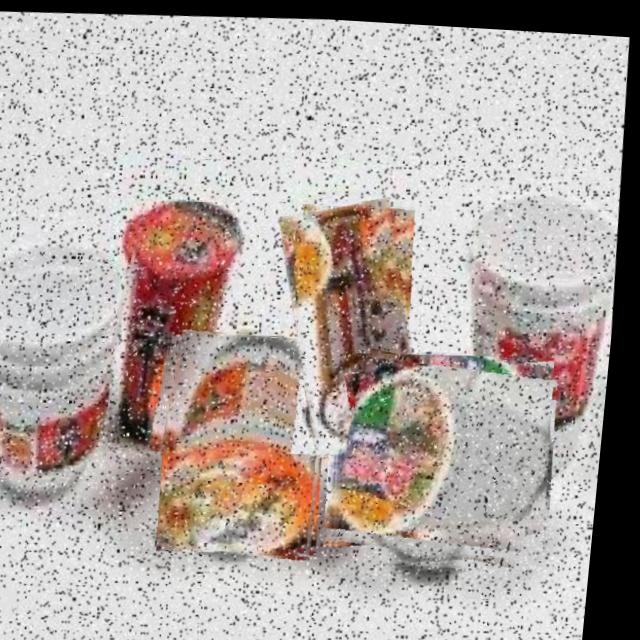Miscellaneous: (329, 340, 568, 572), (158, 323, 346, 560), (275, 190, 440, 456), (107, 194, 256, 456)
